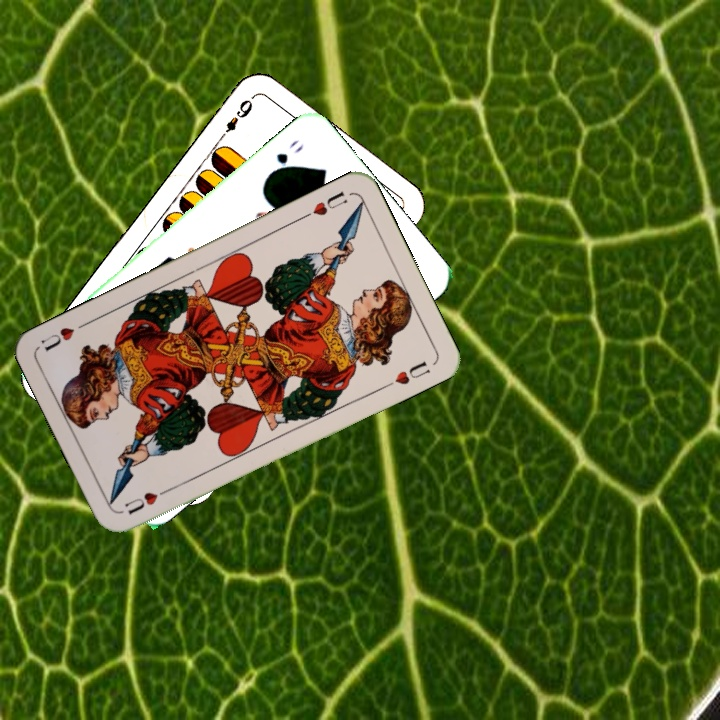E9: (214, 95, 256, 143)
GO: (264, 135, 307, 179)
HU: (120, 483, 174, 518), (298, 187, 350, 222)
